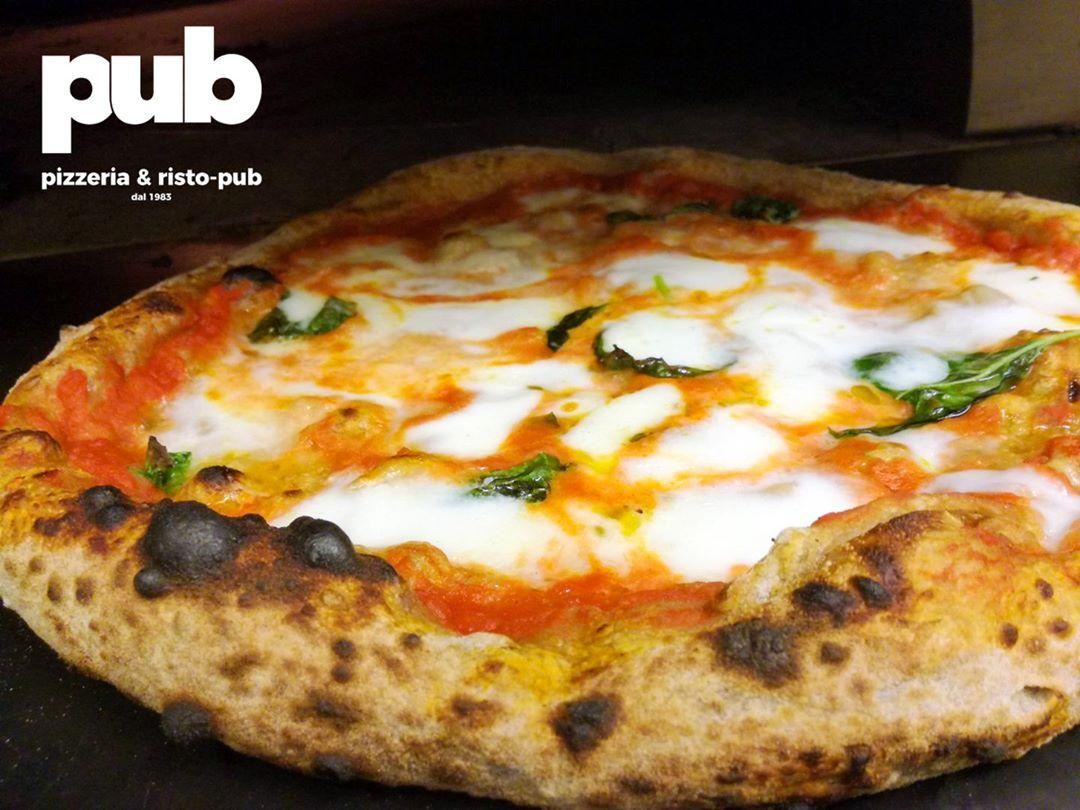Basil: (879, 344, 1080, 440), (593, 332, 720, 381), (249, 285, 360, 341), (472, 454, 569, 500), (141, 434, 194, 495)
Cheese: (334, 482, 537, 574), (662, 475, 855, 571), (738, 299, 866, 404), (411, 364, 550, 454), (974, 266, 1080, 344), (414, 296, 555, 331), (823, 221, 942, 255), (618, 259, 737, 290)
Pizza: (0, 149, 1080, 810)
